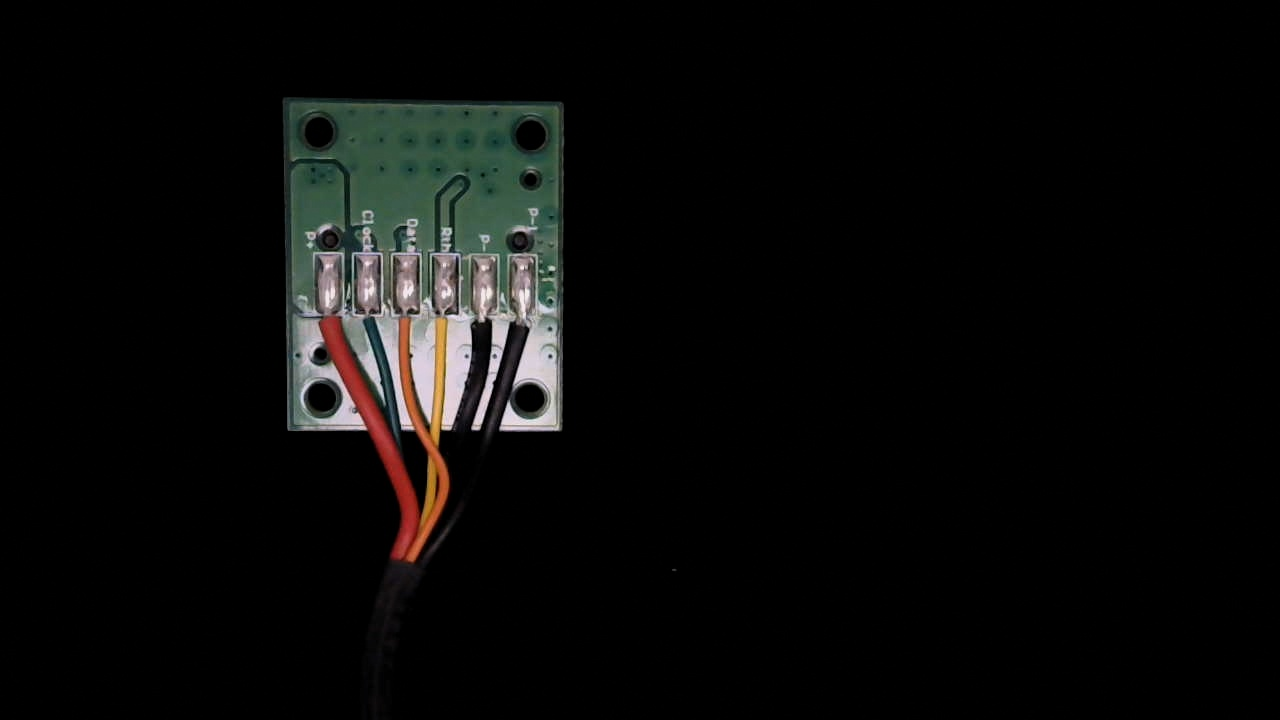Black: (469, 300, 496, 356)
Black1: (507, 301, 536, 357)
Green: (352, 297, 383, 349)
Orange: (390, 299, 422, 351)
Red: (315, 296, 341, 349)
Yellow: (428, 301, 460, 358)
